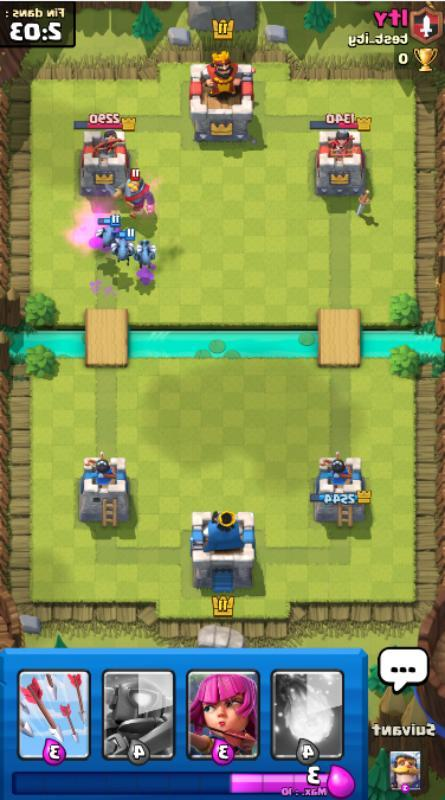chevalier: (103, 167, 154, 219)
gargouille: (109, 228, 137, 265), (96, 215, 120, 249), (133, 239, 157, 272)
